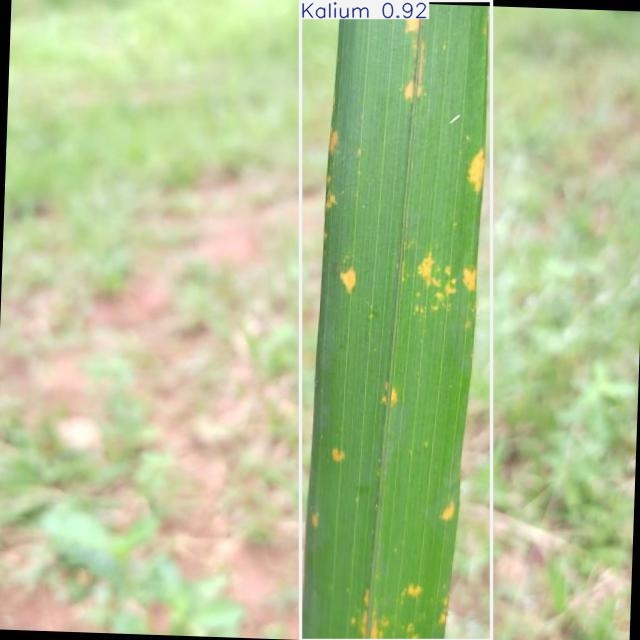Kalium: (301, 1, 492, 640)
